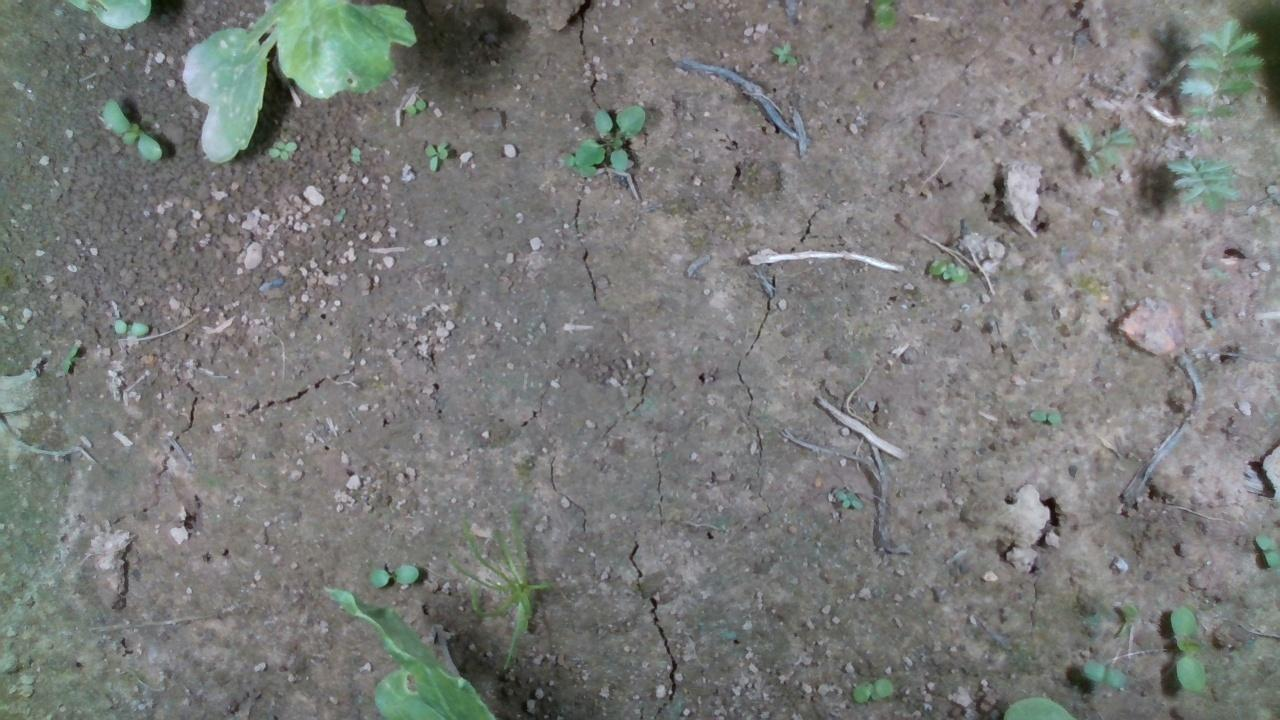weed: (99, 96, 162, 162)
